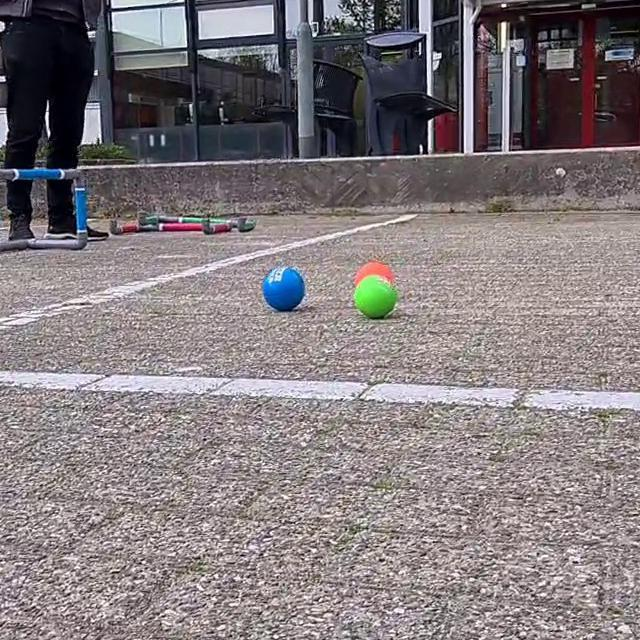ball: (259, 260, 308, 315), (350, 273, 399, 322)
